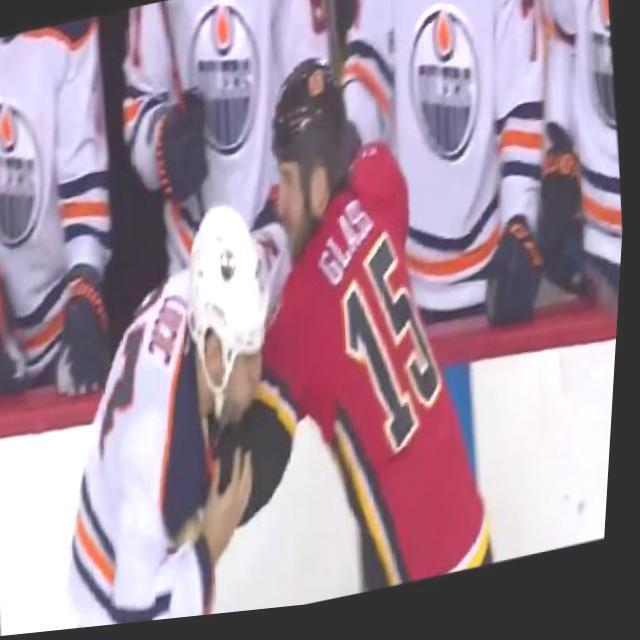fight: (39, 31, 488, 634)
